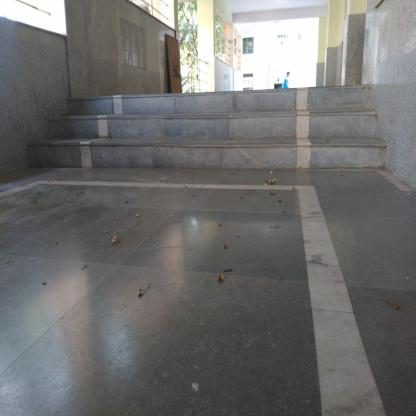stairs: (74, 91, 369, 173)
